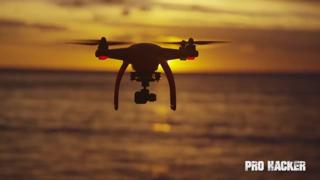UAV: (66, 37, 230, 111)
